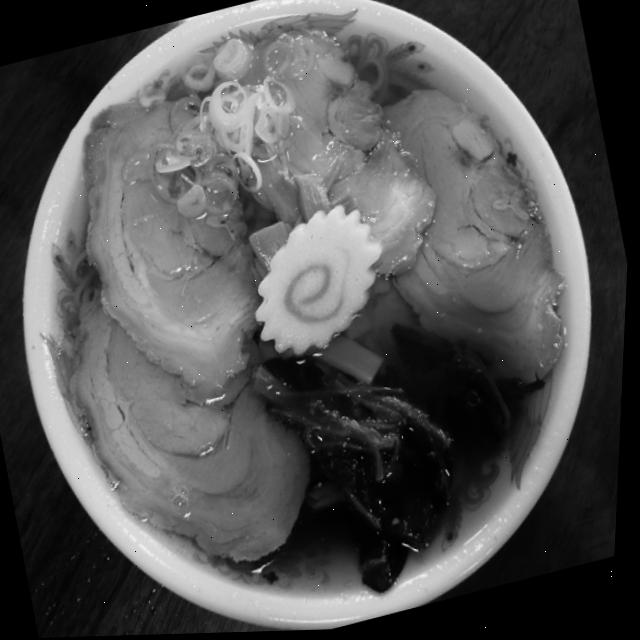面条主食: (0, 0, 615, 640)
